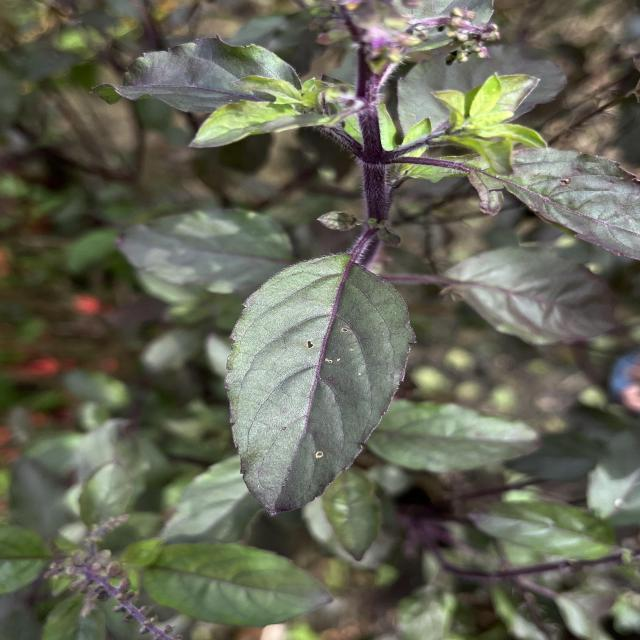Ocimum tenuiflorum: (223, 252, 419, 520)
